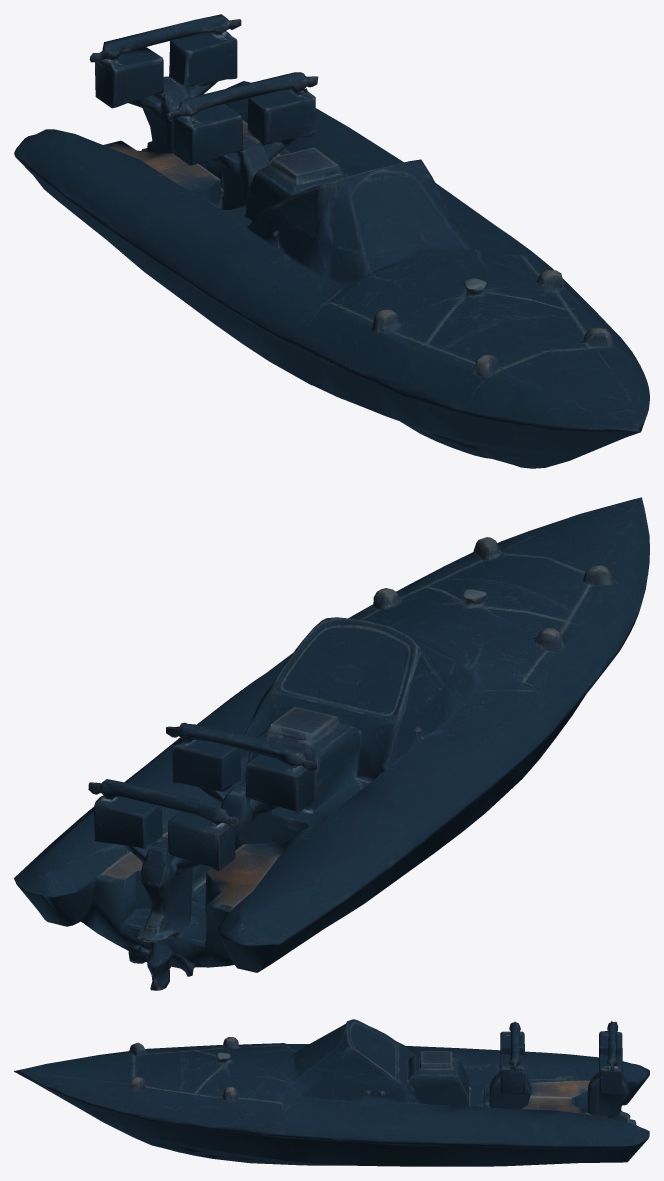
The model's file is skiff.glb.
3 renders of one model, top to bottom at view 1: azimuth 30°, elevation 25°; view 2: azimuth 150°, elevation 25°; view 3: azimuth 270°, elevation 25°, orthographic. The views are drawn at different scales.
Visible parts, largest first — view 1: skiff-Meshy-cleaned; view 2: skiff-Meshy-cleaned; view 3: skiff-Meshy-cleaned.
Part boxes in pixels (x1,y1,x2,y2): skiff-Meshy-cleaned: (14, 14, 649, 468); skiff-Meshy-cleaned: (14, 497, 649, 990); skiff-Meshy-cleaned: (14, 1019, 649, 1166).
Bounding box in the file's own units: 0.6131 × 0.4268 × 1.9.
1 material, 1 textured.
